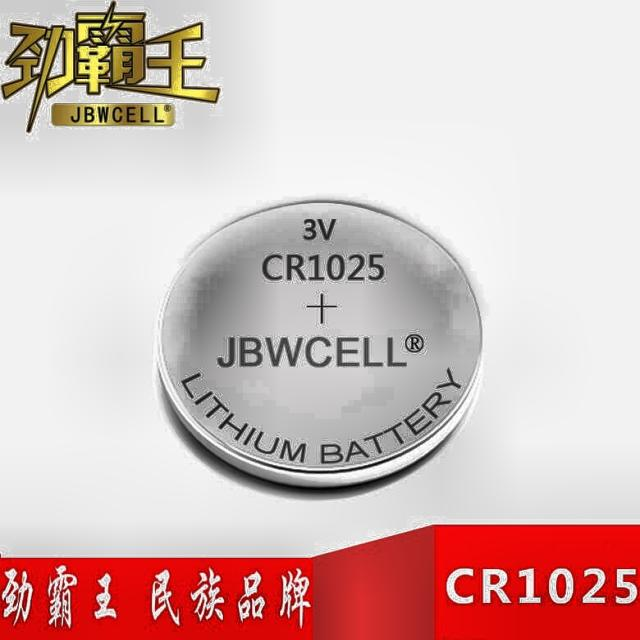Non-Valuable Waste - Batteries: (158, 202, 482, 488)
